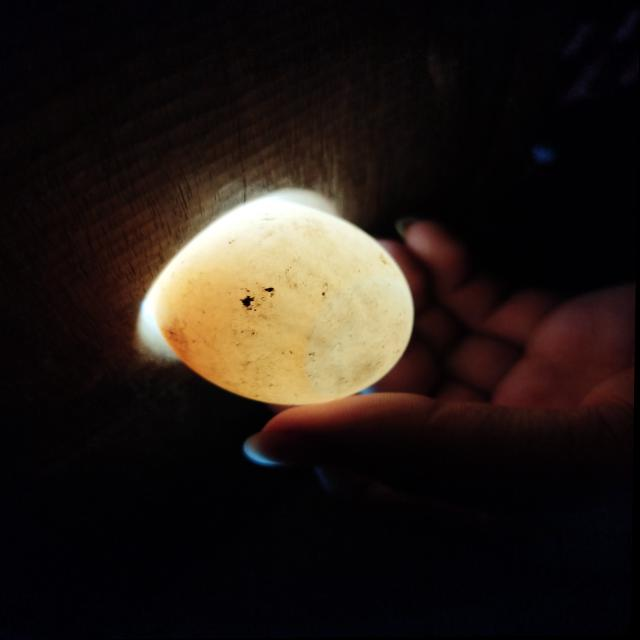Camara de Ar: (306, 279, 416, 396)
